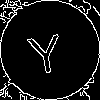Y: (25, 25, 66, 75)
